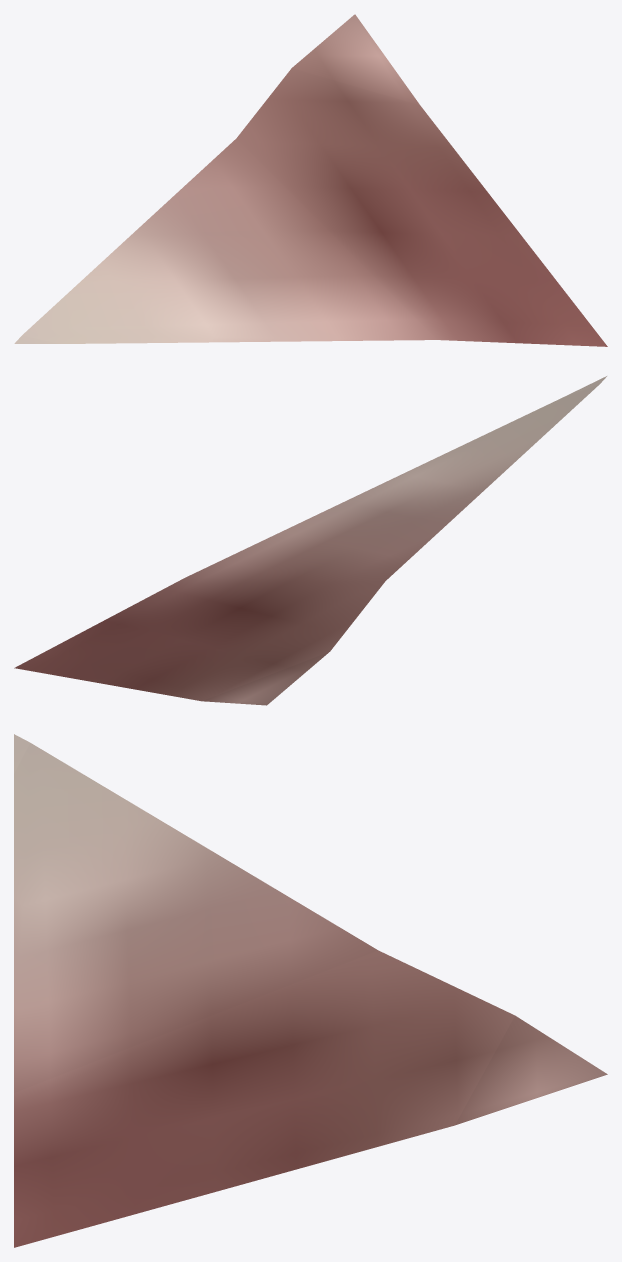
3 views of the same model, one above another, from view 1: azimuth 30°, elevation 25°; view 2: azimuth 210°, elevation 25°; view 3: azimuth 270°, elevation 25° (orthographic). The views are drawn at different scales.
Bounding box in the file's own units: 0.1238 × 0.0294 × 0.0913.
1 material, 1 textured.
